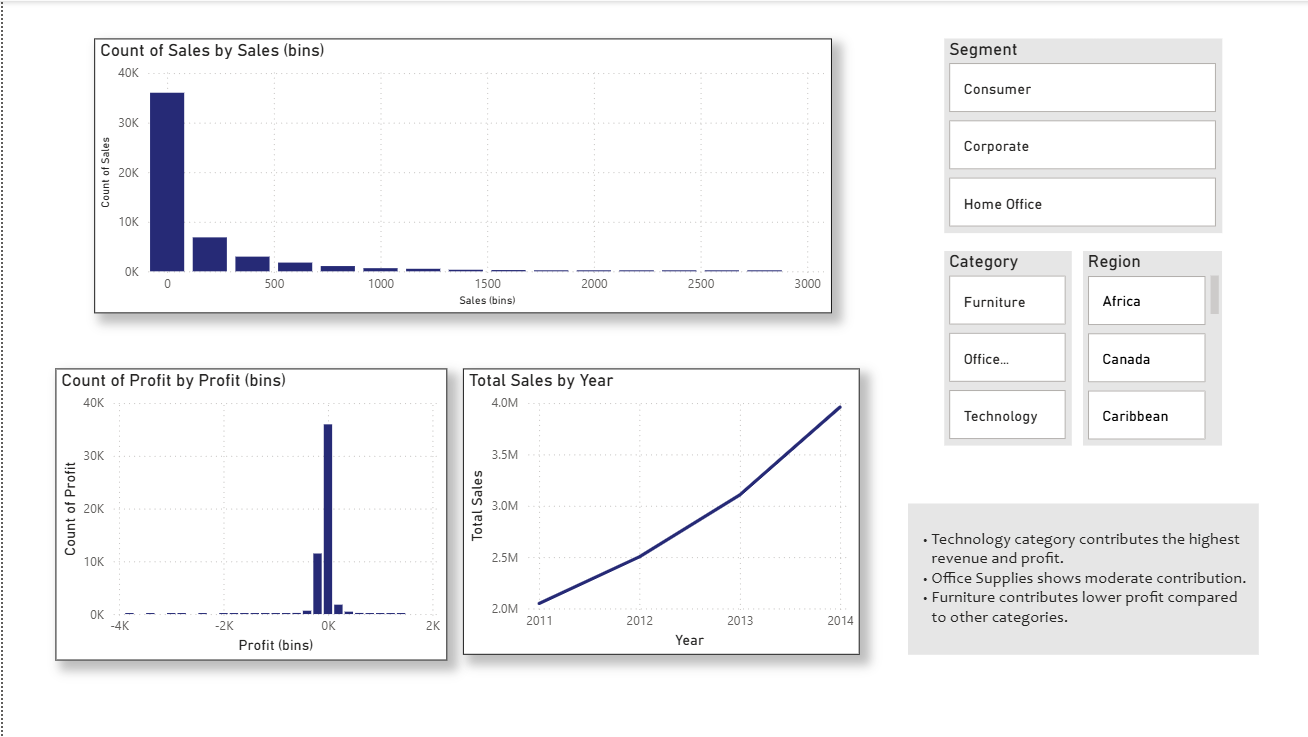

What the dashboard file says about the page in this screenshot:
{"tool":"powerbi","page":{"name":"Page 2","canvas":[1280,720],"ordinal":1},"visuals":[{"type":"clusteredColumnChart","fields":{"Y":["CountNonNull(superstore.Sales)"],"Category":["superstore.Sales (bins)"]},"box":[89.2,37,721.8,269],"z":0},{"type":"clusteredColumnChart","fields":{"Category":["superstore.Profit (bins)"],"Y":["CountNonNull(superstore.Profit)"]},"box":[50.8,359.5,382.8,285.4],"z":1000},{"type":"lineChart","fields":{"Category":["Sales_fact.Order.Date.Variation.Date Hierarchy.Year","Sales_fact.Order.Date.Variation.Date Hierarchy.Quarter","Sales_fact.Order.Date.Variation.Date Hierarchy.Month","Sales_fact.Order.Date.Variation.Date Hierarchy.Day"],"Y":["Sales_fact.Total Sales"]},"box":[450.1,359.5,388.3,279.9],"z":2000},{"type":"advancedSlicerVisual","fields":{"Values":["Sales_fact.Region"]},"box":[1056.6,244.3,135.8,190.7],"z":3000},{"type":"advancedSlicerVisual","fields":{"Values":["Sales_fact.Category"]},"box":[920.8,244.3,124.9,190.7],"z":4000},{"type":"advancedSlicerVisual","fields":{"Values":["Sales_fact.Segment"]},"box":[920.8,37,271.7,190.7],"z":5000},{"type":"textbox","box":[885,491.7,343.3,148.3],"z":6000}]}

Visuals, with their boxes in screenshot pixels (x1, y1, x2, y2), scaled from the page's 1280x720 canvas onto the 1308x737 screenshot:
clusteredColumnChart - CountNonNull(superstore.Sales) x superstore.Sales (bins): box=[91, 38, 829, 313]
clusteredColumnChart - superstore.Profit (bins) x CountNonNull(superstore.Profit): box=[52, 368, 443, 660]
lineChart - Sales_fact.Order.Date.Variation.Date Hierarchy.Year x Sales_fact.Order.Date.Variation.Date Hierarchy.Quarter: box=[460, 368, 857, 654]
advancedSlicerVisual - Sales_fact.Region: box=[1080, 250, 1218, 445]
advancedSlicerVisual - Sales_fact.Category: box=[941, 250, 1069, 445]
advancedSlicerVisual - Sales_fact.Segment: box=[941, 38, 1219, 233]
textbox: box=[904, 503, 1255, 655]
